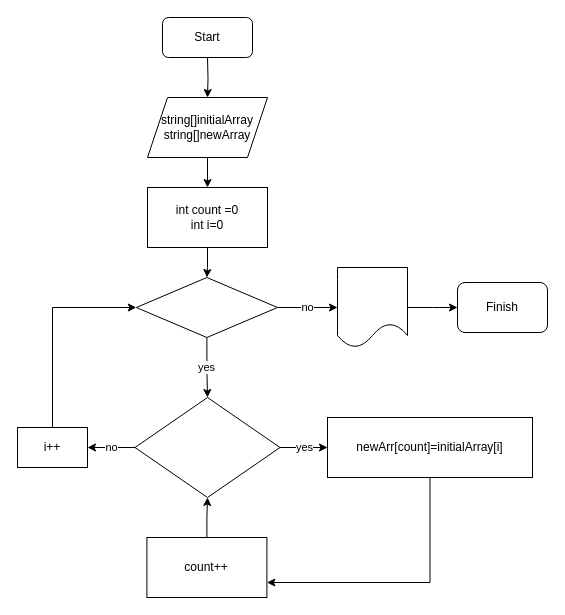
Image size: 565x615. Some labels were removed from this diagram. Here are the shapes that lost their labels. From the top down, the box of each, then its label:
(135, 276, 278, 338): i<initialArray.Lenght
(336, 266, 408, 348): Print
(134, 396, 280, 498): initialArray[i].Lenght<=3
